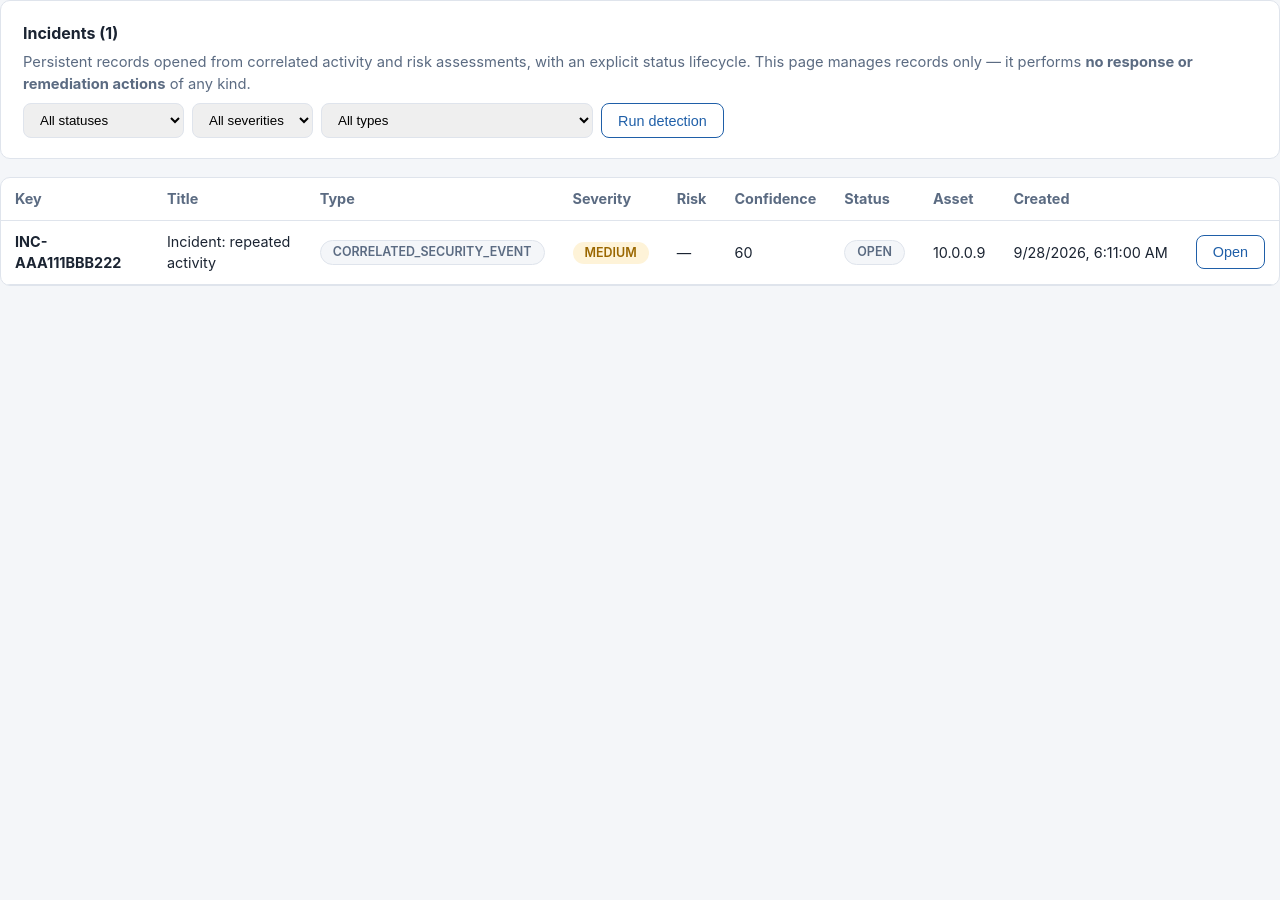
Scenario: Incident responses (Step 18) › shows failure reasons honestly
Click the button "Open" at (1230, 252), box [1196, 235, 1265, 269]
(page scrolled)
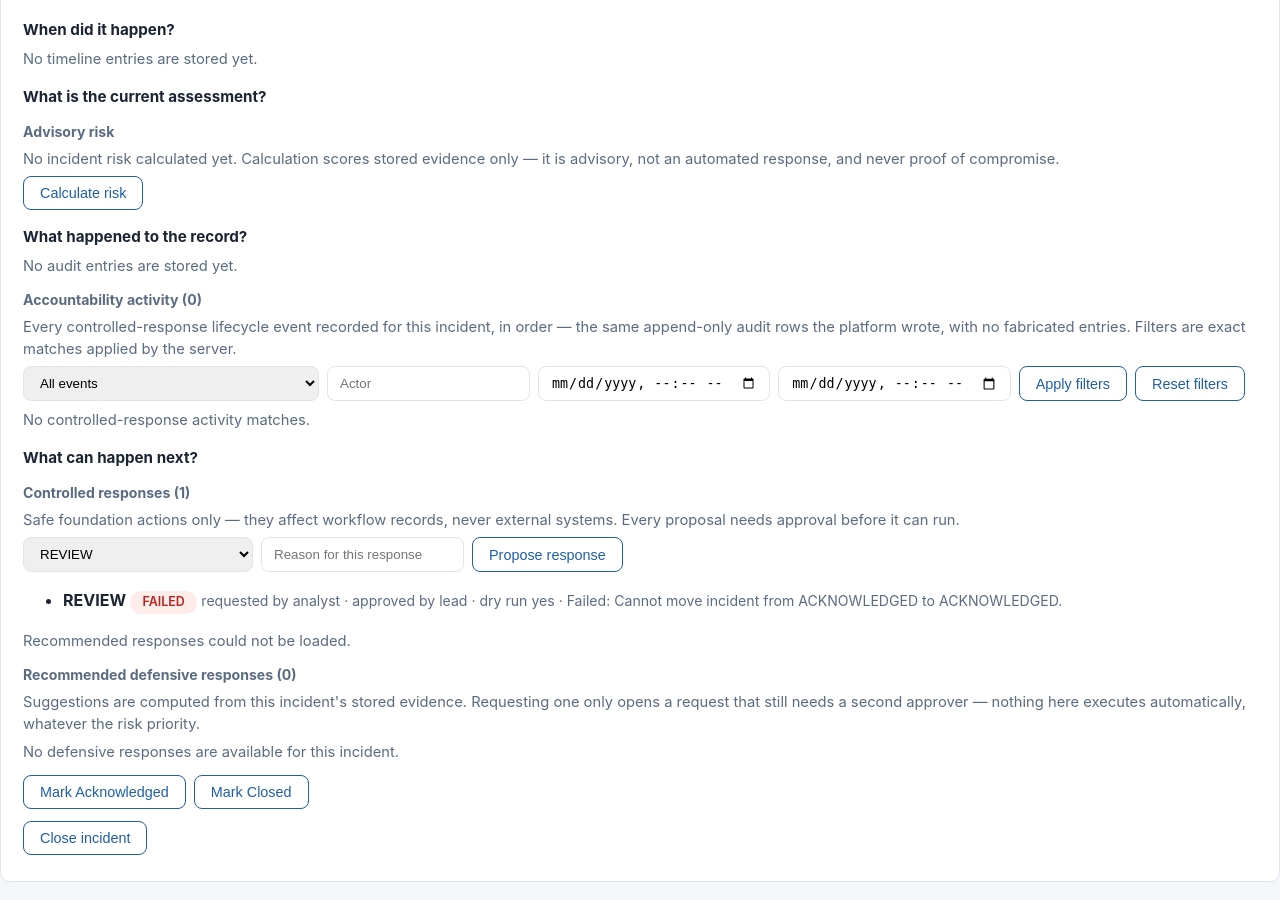
expect the text "FAILED" is shown: met, box [130, 591, 197, 614]
expect the text "Cannot move incident" is shown: met, box [614, 592, 1062, 609]
